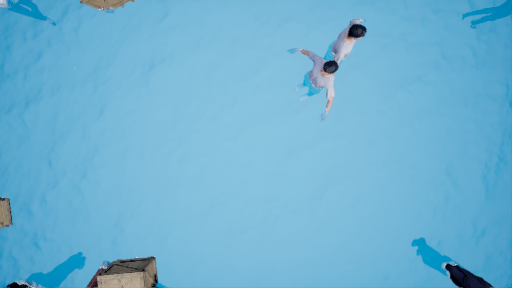person: (284, 45, 353, 125), (323, 18, 377, 71)
